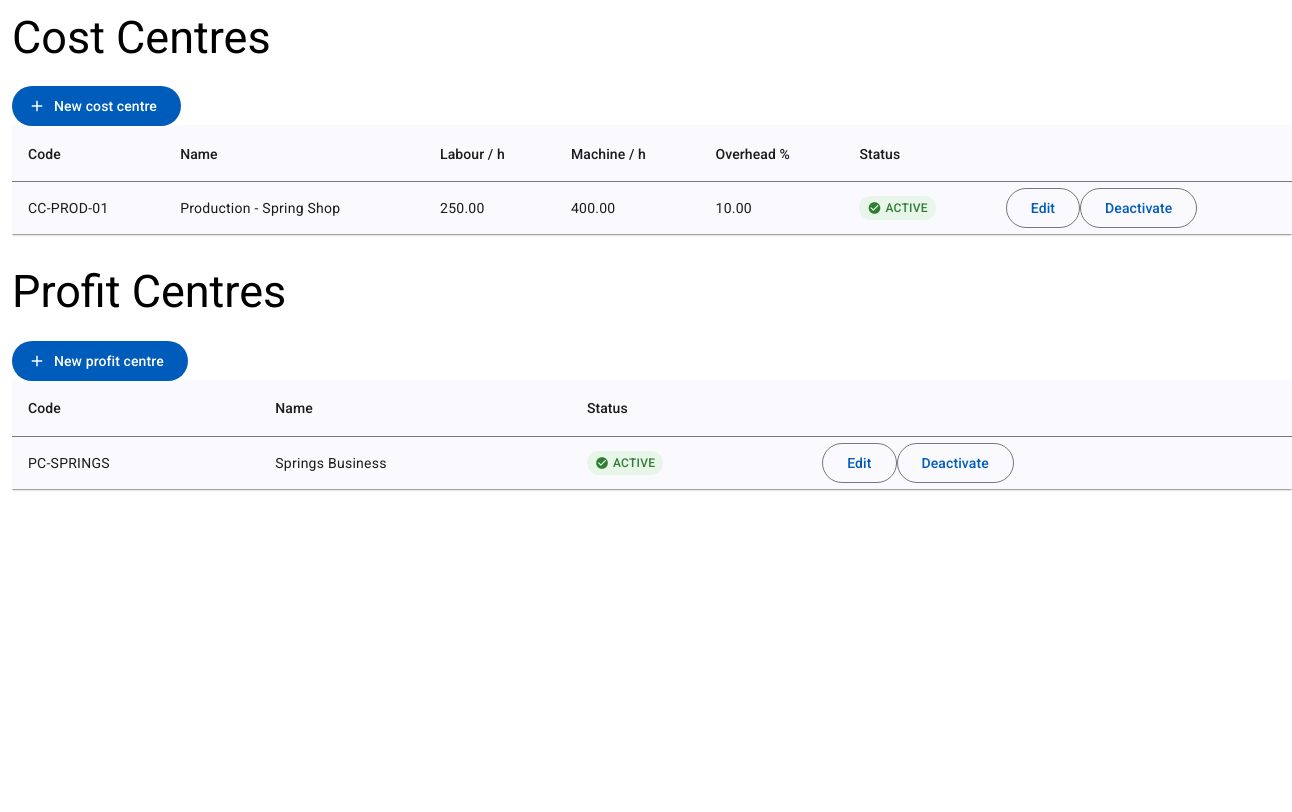
Test: CostCentreListComponent › shows edit actions and the create form for managers
Step 1. Click the button "New cost centre" → (96, 106), box 12,86 -> 181,126
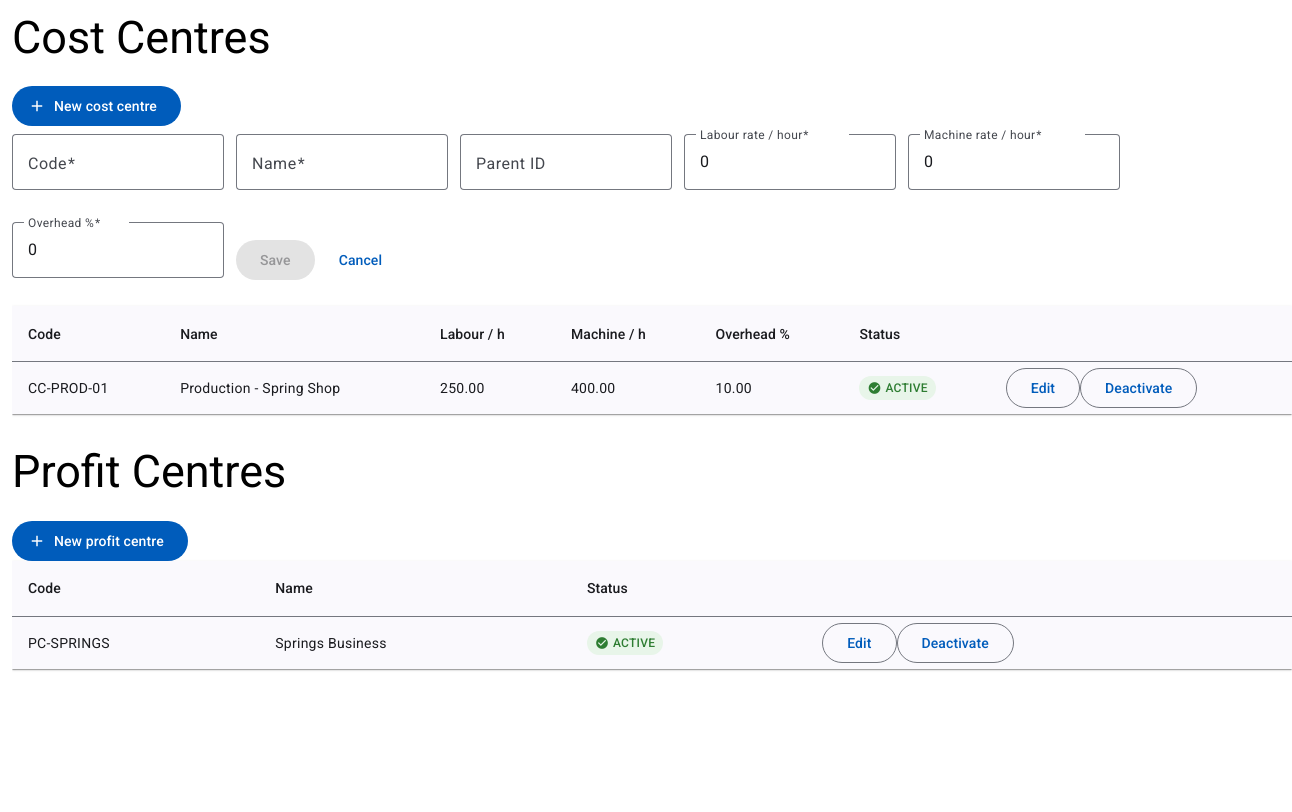
Expected: the form is shown, 12,126 -> 1291,306
